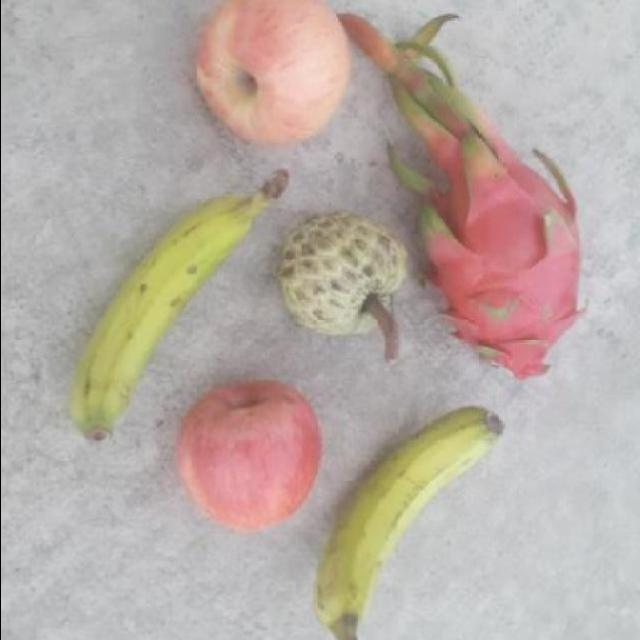apple: (191, 0, 350, 151), (171, 380, 323, 534)
banana: (59, 166, 290, 453), (311, 405, 501, 640)
dragon fruit: (408, 123, 592, 383)
sugar apple: (274, 208, 410, 362)
